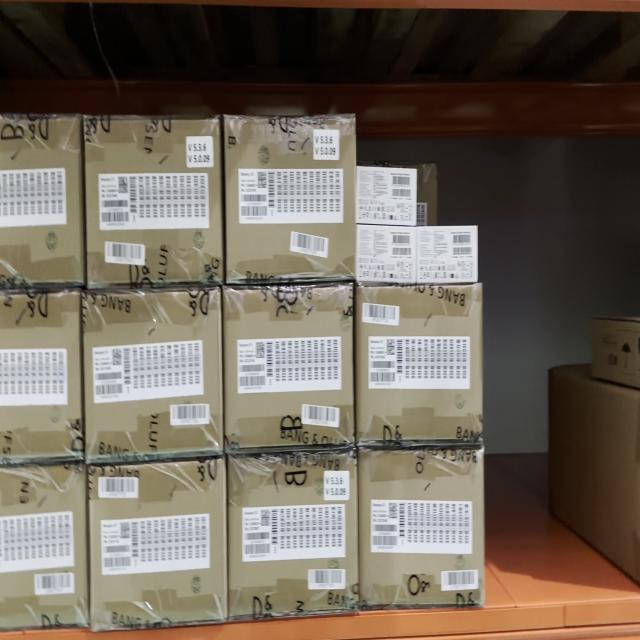box: (88, 119, 221, 286), (84, 293, 221, 454), (90, 464, 225, 624), (227, 118, 352, 278), (225, 287, 353, 439), (232, 460, 356, 615), (358, 290, 482, 439), (362, 453, 484, 603), (357, 166, 415, 227), (357, 231, 415, 279), (420, 231, 476, 280)
